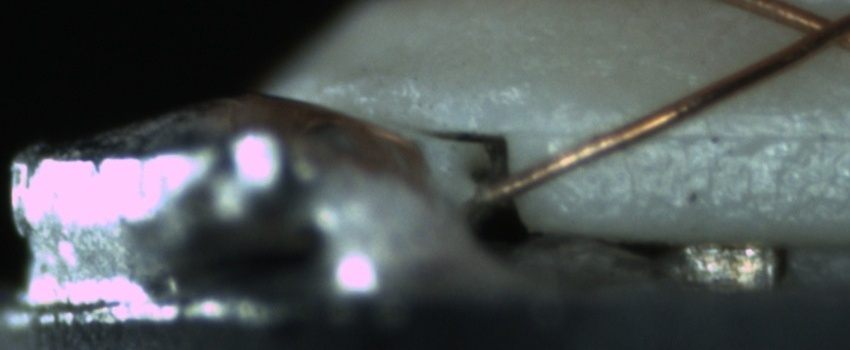CL: (777, 2, 849, 59)
DL: (542, 99, 849, 163)
